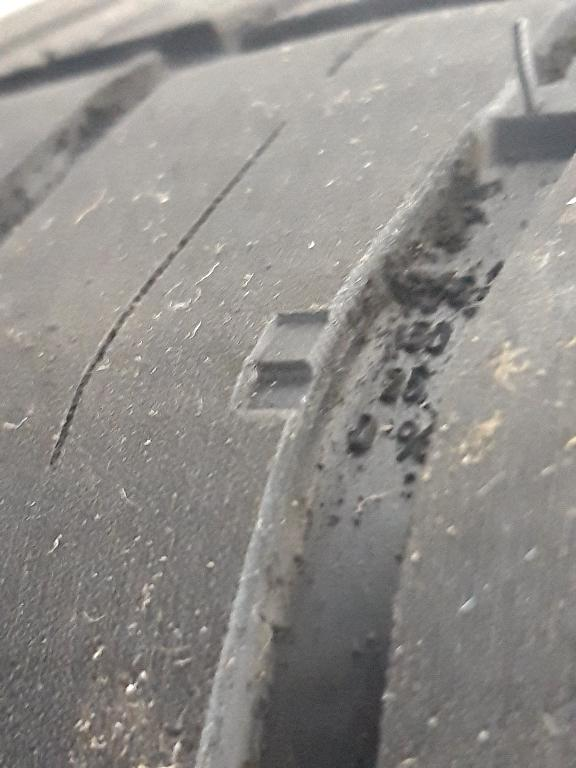temoin:25: (216, 294, 376, 448)
